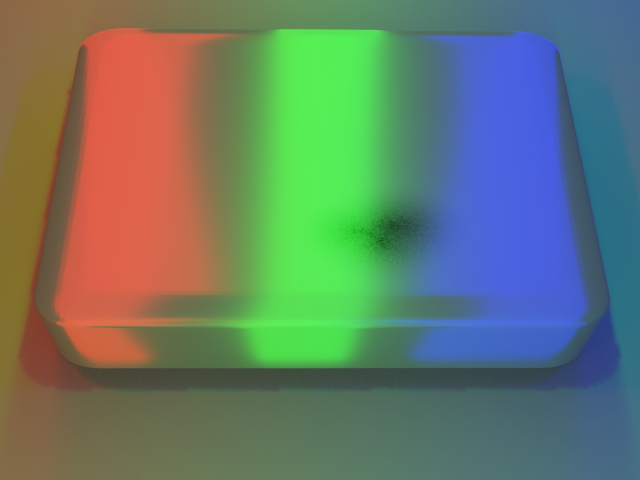stain: (282, 165, 511, 302)
